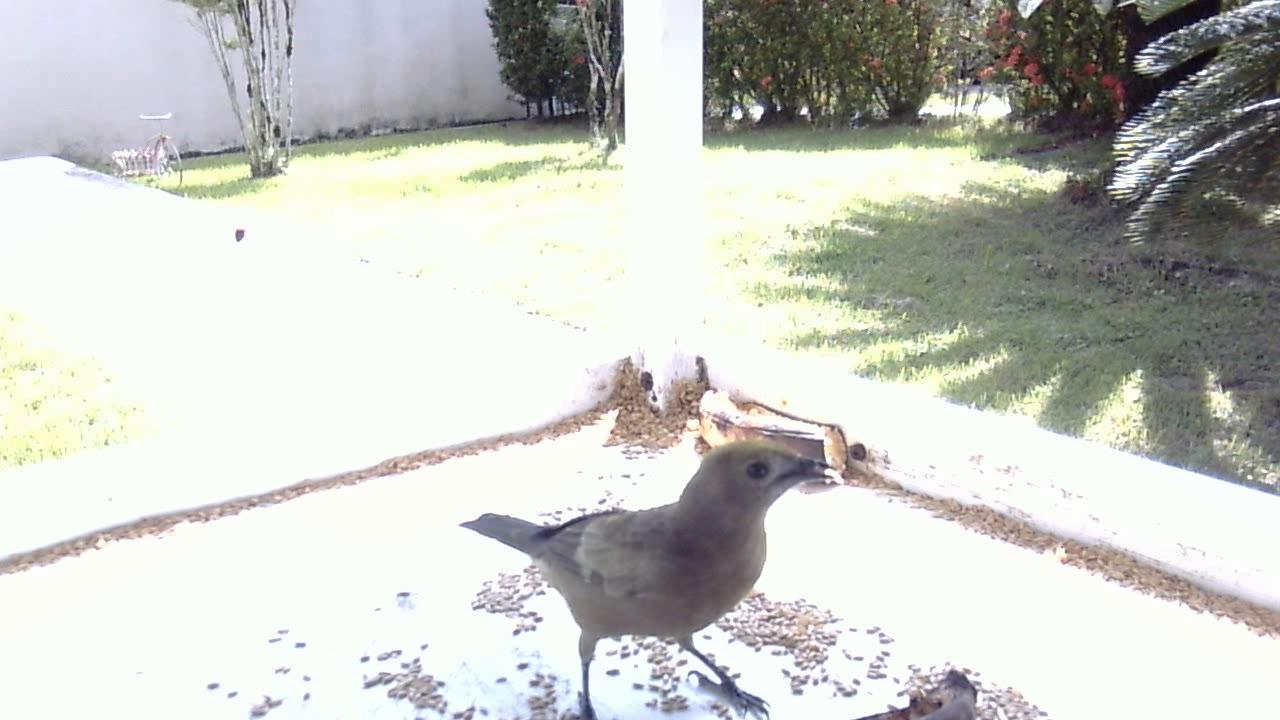sanhaco_do_coqueiro: (444, 415, 852, 720)
